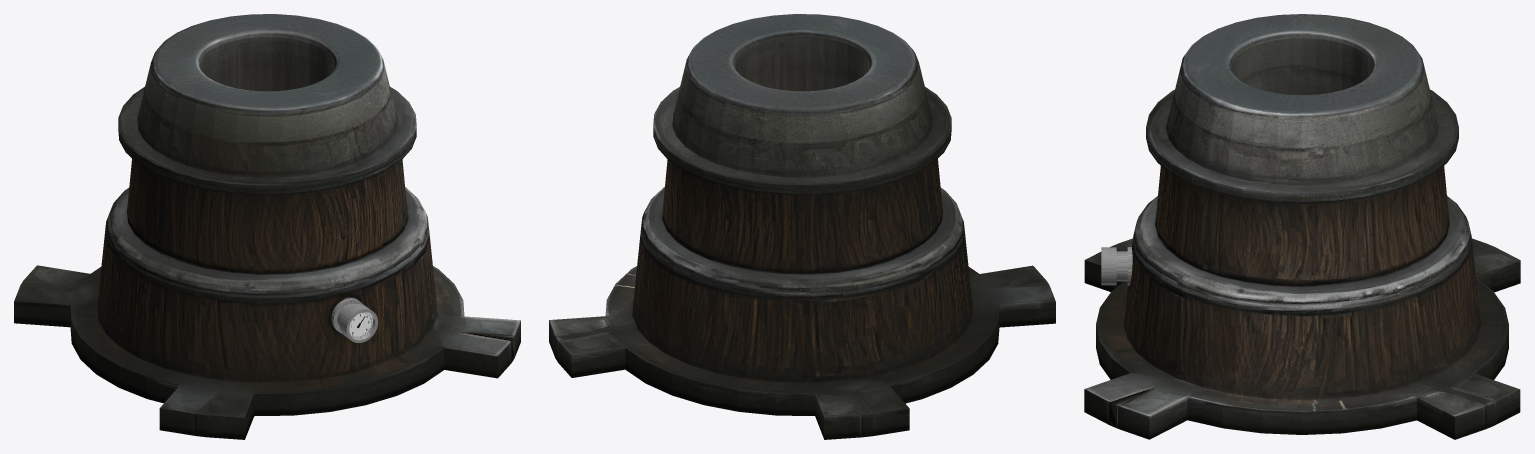
The model's file is Bomb Tower.fbx.
3 views of the same model, side by side, from view 1: azimuth 30°, elevation 25°; view 2: azimuth 150°, elevation 25°; view 3: azimuth 270°, elevation 25° (orthographic). The views are drawn at different scales.
Parts seen in each view (by area): view 1: Bomb Tower; view 2: Bomb Tower; view 3: Bomb Tower.
Boxes of the visible parts, box(x1,y1,x2,y2) form: Bomb Tower: box(14, 14, 520, 439); Bomb Tower: box(549, 14, 1055, 439); Bomb Tower: box(1084, 14, 1520, 439).
Size of the model in its own units: 6.89 by 4.96 by 6.89.
2 materials, 2 textured.
